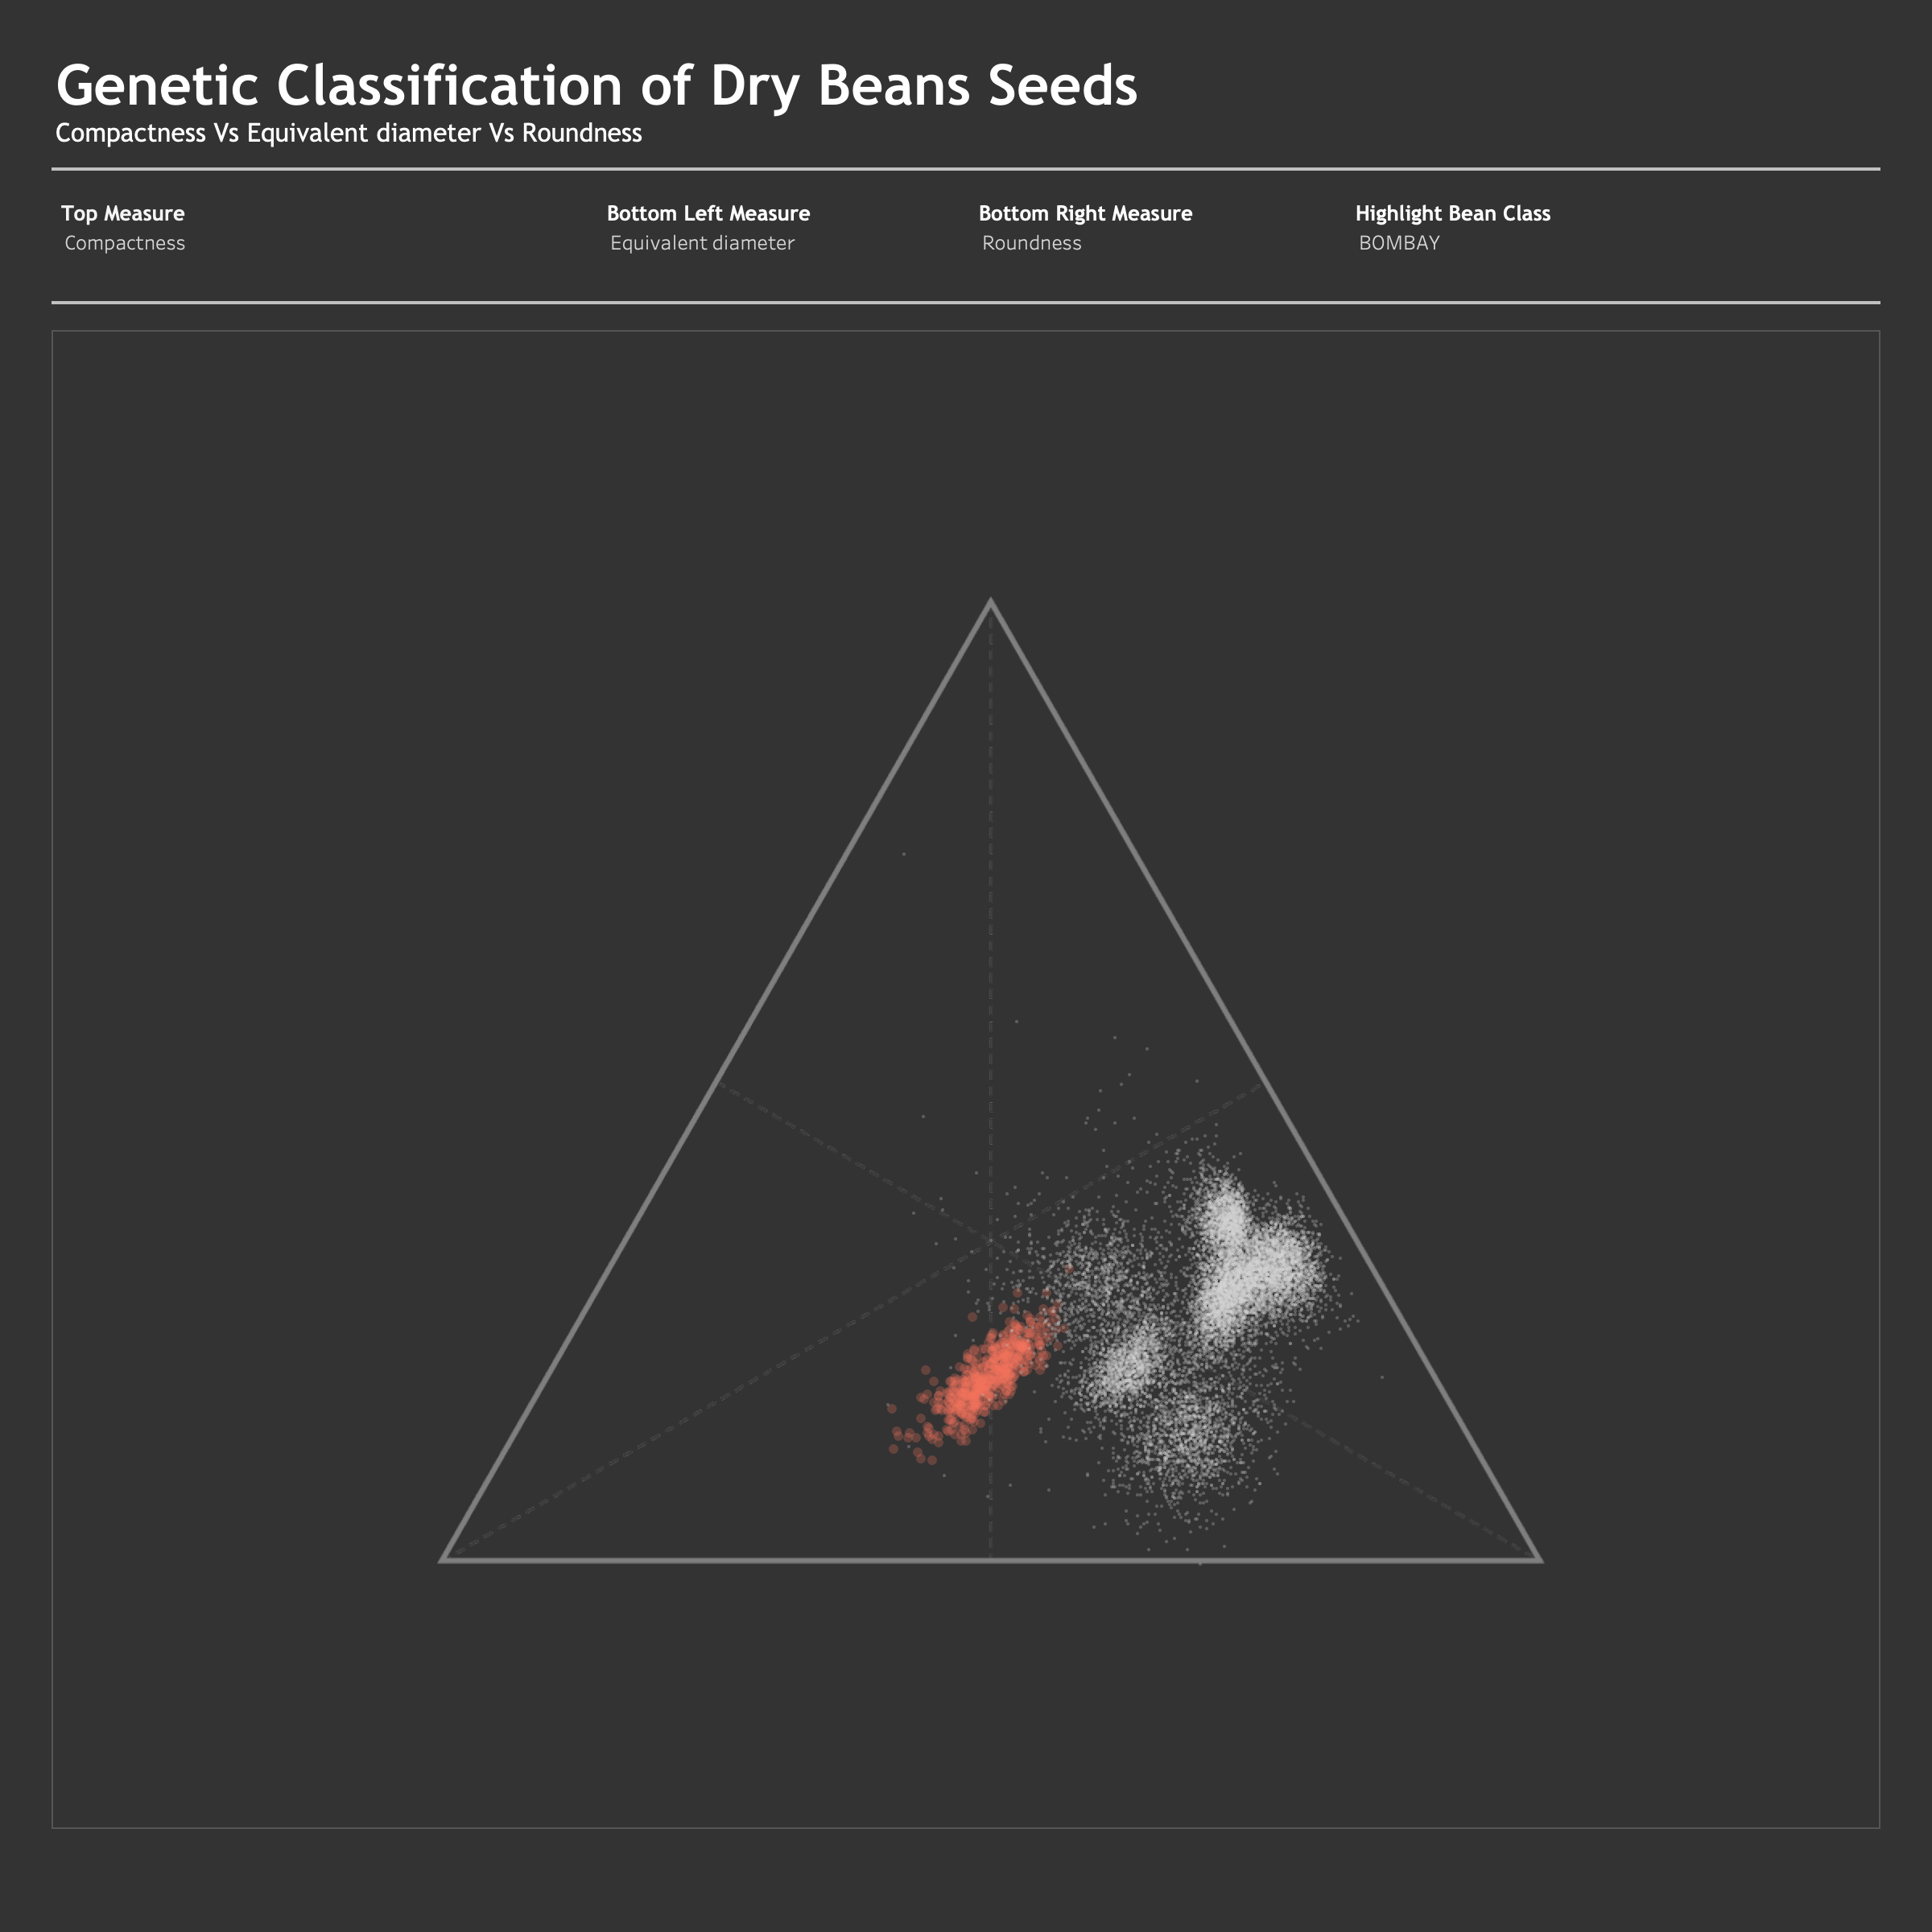

Layout of this report page (visuals, bound fields, positions):
{"tool":"tableau","page":{"name":"Ternary Chart","canvas":[1200,1200],"ordinal":2},"visuals":[{"type":"text","box":[28,28,1144,72]},{"type":"blank","box":[28,100,1144,14]},{"type":"parameter","param":"[Parameters].[Select Measure (copy) (copy)_913456729351135244]","box":[28,114,339.5,69]},{"type":"parameter","param":"[Parameters].[Parameter 1]","box":[367.5,114,231,69]},{"type":"parameter","param":"[Parameters].[Select Measure (copy)_913456729351122955]","box":[598.5,114,234,69]},{"type":"parameter","param":"[Parameters].[Parameter 2 1]","box":[832.5,114,339.5,69]},{"type":"blank","box":[28,183,1144,10]},{"type":"worksheet","title":"Ternary","mark":"Circle","rows":["Calculation_4008203697165148184"],"cols":["Calculation_4008203697165164569"],"box":[28,193,1144,947]}]}

Visuals, with their boxes in screenshot pixels (x1, y1, x2, y2), scaled from the page's 1200x1200 canvas onto the 1932x1932 screenshot:
text: left=45, top=45, right=1887, bottom=161
blank: left=45, top=161, right=1887, bottom=184
parameter: left=45, top=184, right=592, bottom=295
parameter: left=592, top=184, right=964, bottom=295
parameter: left=964, top=184, right=1340, bottom=295
parameter: left=1340, top=184, right=1887, bottom=295
blank: left=45, top=295, right=1887, bottom=311
"Ternary" worksheet (Circle marks): left=45, top=311, right=1887, bottom=1835
